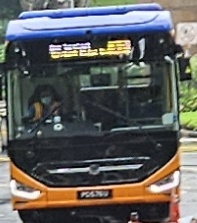bus: (105, 38, 132, 55)
